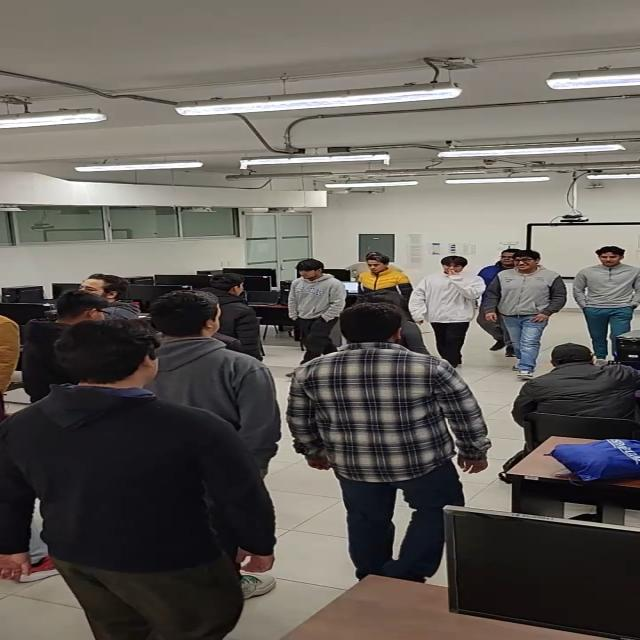Persona: (0, 317, 279, 640), (286, 299, 492, 585), (142, 289, 287, 482), (482, 248, 569, 380), (22, 289, 114, 400), (409, 255, 483, 367), (574, 245, 640, 365), (287, 258, 348, 366), (199, 271, 265, 363), (74, 272, 145, 326), (356, 253, 412, 317), (472, 249, 523, 282)
